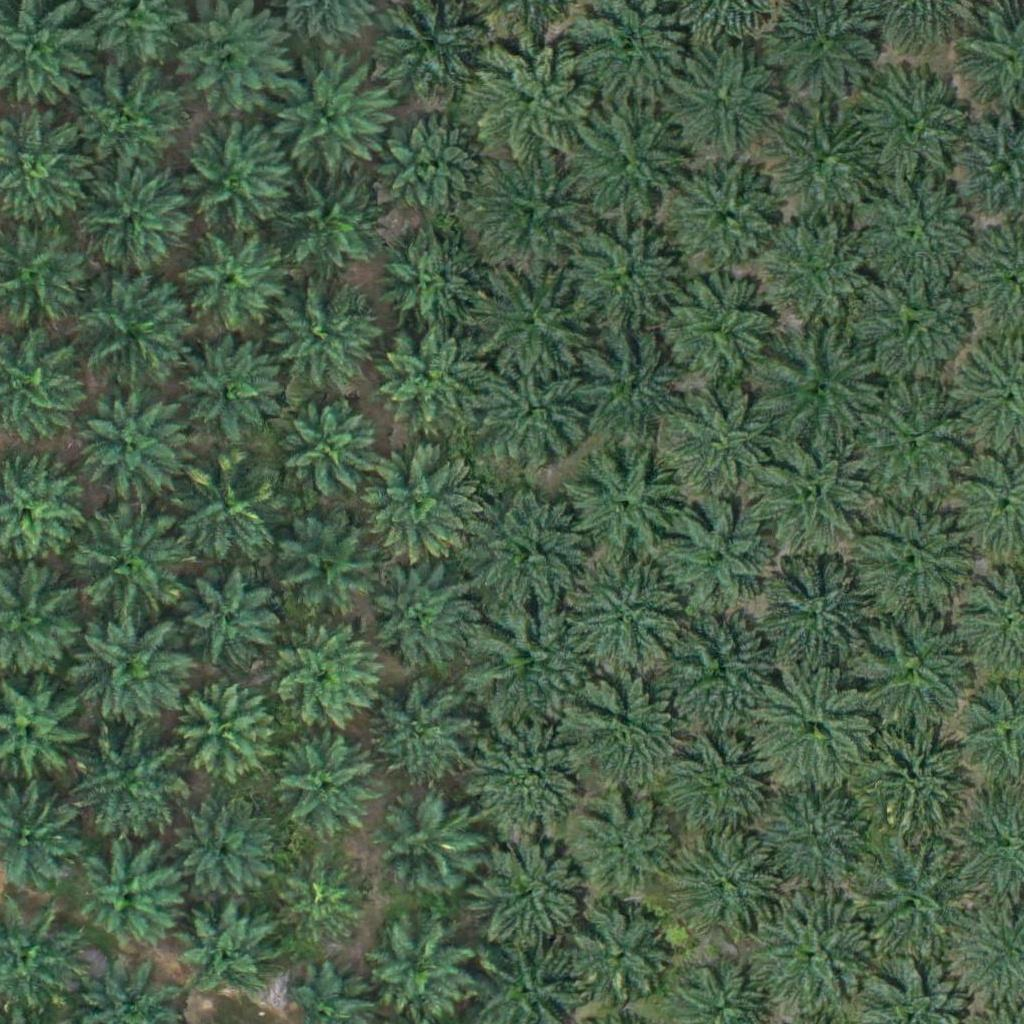Kelapa_Sawit: (476, 51, 601, 177), (70, 610, 195, 736), (359, 434, 484, 560), (355, 551, 480, 677), (472, 492, 597, 618), (472, 603, 597, 729), (666, 39, 791, 165), (762, 100, 887, 226), (572, 322, 697, 448), (759, 328, 884, 454), (748, 434, 873, 560), (756, 563, 881, 689), (849, 499, 974, 625), (849, 381, 974, 507), (856, 265, 981, 391), (856, 181, 981, 307), (469, 712, 594, 838), (560, 677, 685, 803), (750, 887, 875, 1013), (752, 667, 877, 793), (860, 708, 985, 834), (850, 831, 975, 957), (266, 59, 391, 184), (480, 253, 605, 378), (567, 555, 692, 680), (464, 829, 589, 954), (76, 67, 189, 181), (568, 111, 681, 225), (752, 220, 865, 334), (753, 791, 866, 905), (179, 121, 292, 234), (268, 281, 381, 394), (71, 731, 184, 844), (573, 214, 686, 327), (564, 452, 677, 565), (664, 498, 777, 611), (665, 386, 778, 499), (75, 384, 187, 498), (73, 507, 185, 621), (170, 458, 282, 572), (270, 625, 382, 739), (670, 160, 782, 274), (665, 276, 777, 390), (80, 161, 192, 274), (79, 281, 191, 394), (371, 324, 483, 437), (479, 360, 591, 473), (858, 618, 970, 731), (180, 227, 280, 328), (178, 334, 278, 435), (279, 179, 379, 280), (280, 402, 380, 503), (385, 109, 485, 210), (380, 234, 480, 335), (486, 160, 586, 261), (177, 806, 277, 907), (177, 900, 277, 1001), (78, 846, 178, 947), (866, 76, 966, 177), (567, 907, 667, 1008), (572, 795, 672, 896), (680, 837, 780, 938), (184, 563, 284, 663), (274, 517, 374, 617), (371, 689, 471, 789), (379, 797, 479, 897), (367, 923, 467, 1023), (278, 739, 378, 839), (175, 684, 275, 784), (661, 730, 761, 830), (671, 617, 770, 717), (279, 859, 367, 947)
